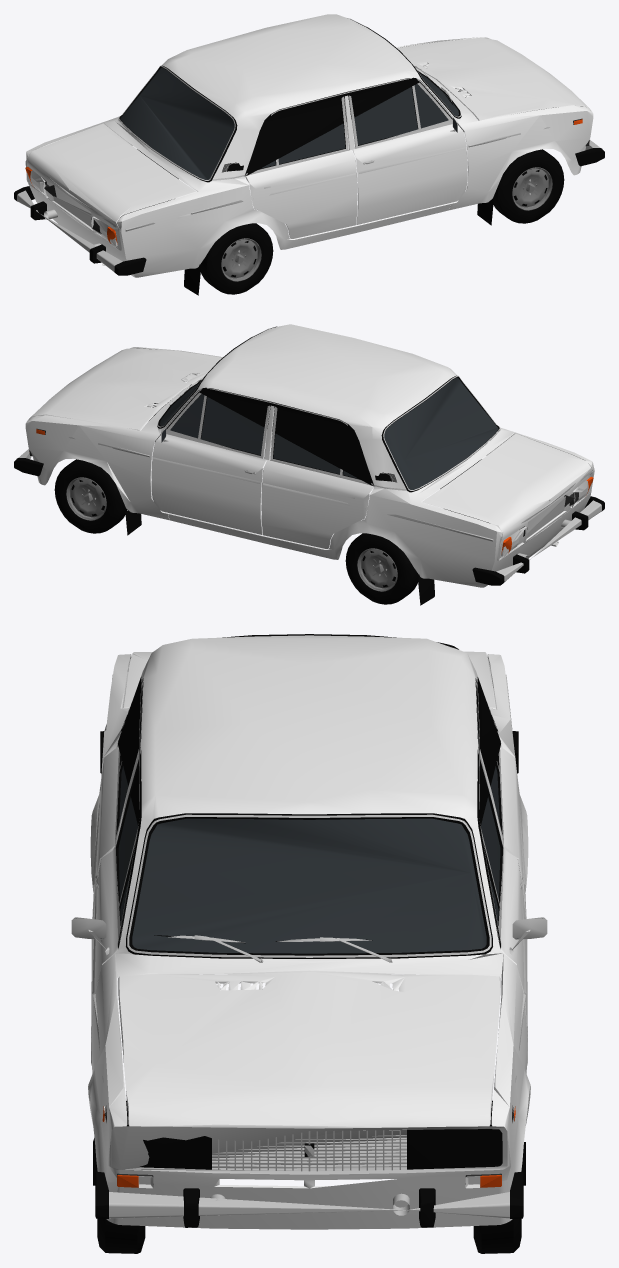
File: vaz2106.obj
The picture shows the model from 3 angles, top to bottom: view 1: azimuth 30°, elevation 25°; view 2: azimuth 150°, elevation 25°; view 3: azimuth 270°, elevation 25°; orthographic projection. The views are drawn at different scales.
Visible parts, largest first — view 1: vaz2106_06paintPaint, vaz2106_winglassGlass, vaz2106_jigrubber, vaz2106_wheeltire, vaz2106_jigchrome, vaz2106_wheelrim, vaz2106_jigplastic, vaz2106_hlchrome; view 2: vaz2106_06paintPaint, vaz2106_winglassGlass, vaz2106_jigrubber, vaz2106_jigchrome, vaz2106_wheeltire, vaz2106_wheelrim, vaz2106_jigplastic, vaz2106_hlchrome; view 3: vaz2106_06paintPaint, vaz2106_winglassGlass, vaz2106_jigchrome, vaz2106_jigplastic, vaz2106_jigrubber, vaz2106_wheeltire.
Boxes of the visible parts, bbox=[...] form: vaz2106_06paintPaint: bbox=[26, 14, 593, 277]; vaz2106_winglassGlass: bbox=[120, 67, 458, 179]; vaz2106_jigrubber: bbox=[119, 19, 493, 295]; vaz2106_wheeltire: bbox=[120, 88, 564, 294]; vaz2106_jigchrome: bbox=[17, 65, 600, 272]; vaz2106_wheelrim: bbox=[221, 167, 552, 281]; vaz2106_jigplastic: bbox=[14, 85, 604, 275]; vaz2106_hlchrome: bbox=[26, 166, 117, 246]; vaz2106_06paintPaint: bbox=[25, 324, 594, 587]; vaz2106_winglassGlass: bbox=[160, 377, 498, 489]; vaz2106_jigrubber: bbox=[125, 326, 499, 605]; vaz2106_jigchrome: bbox=[18, 375, 601, 581]; vaz2106_wheeltire: bbox=[54, 396, 489, 604]; vaz2106_wheelrim: bbox=[66, 477, 397, 591]; vaz2106_jigplastic: bbox=[14, 395, 604, 585]; vaz2106_hlchrome: bbox=[501, 476, 592, 556]; vaz2106_06paintPaint: bbox=[88, 635, 530, 1229]; vaz2106_winglassGlass: bbox=[118, 725, 500, 953]; vaz2106_jigchrome: bbox=[71, 668, 547, 1218]; vaz2106_jigplastic: bbox=[95, 685, 523, 1227]; vaz2106_jigrubber: bbox=[93, 634, 525, 1185]; vaz2106_wheeltire: bbox=[97, 942, 521, 1253].
Size of the model in its own units: 4.16 by 1.42 by 1.73.
16 materials, 16 textured.
